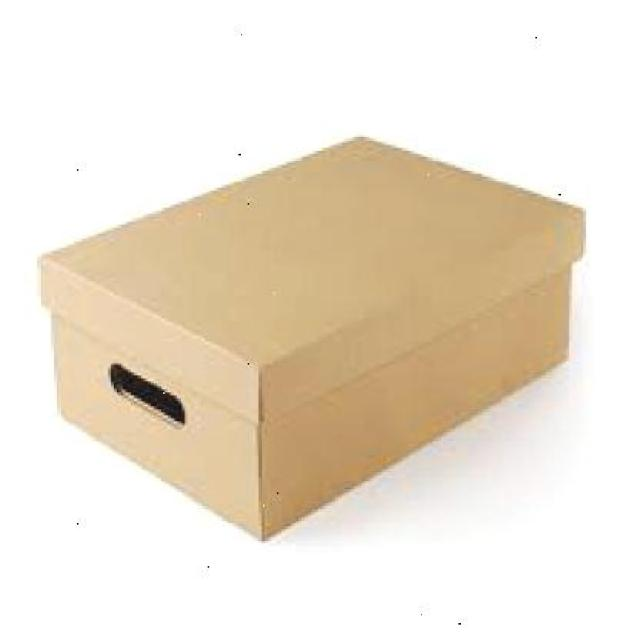box: (36, 136, 587, 544)
normal_hole: (108, 361, 187, 431)
